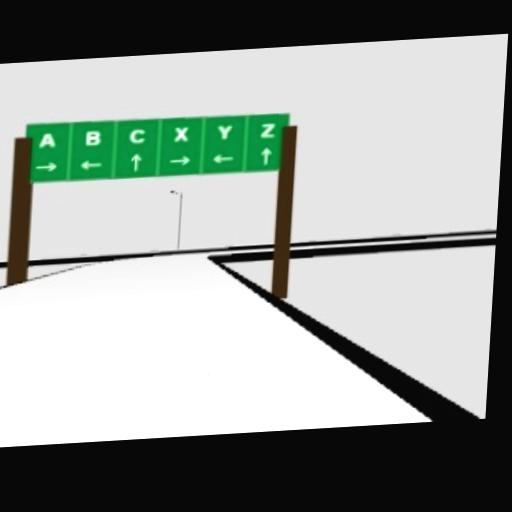A: (37, 130, 57, 148)
B: (86, 128, 102, 144)
C: (128, 125, 146, 143)
Left: (79, 157, 103, 169), (212, 152, 234, 162)
Right: (34, 160, 58, 171), (169, 154, 191, 165)
Straight: (129, 151, 142, 171), (259, 145, 272, 164)
X: (173, 125, 188, 141)
Y: (217, 122, 232, 138)
Z: (259, 122, 275, 138)
